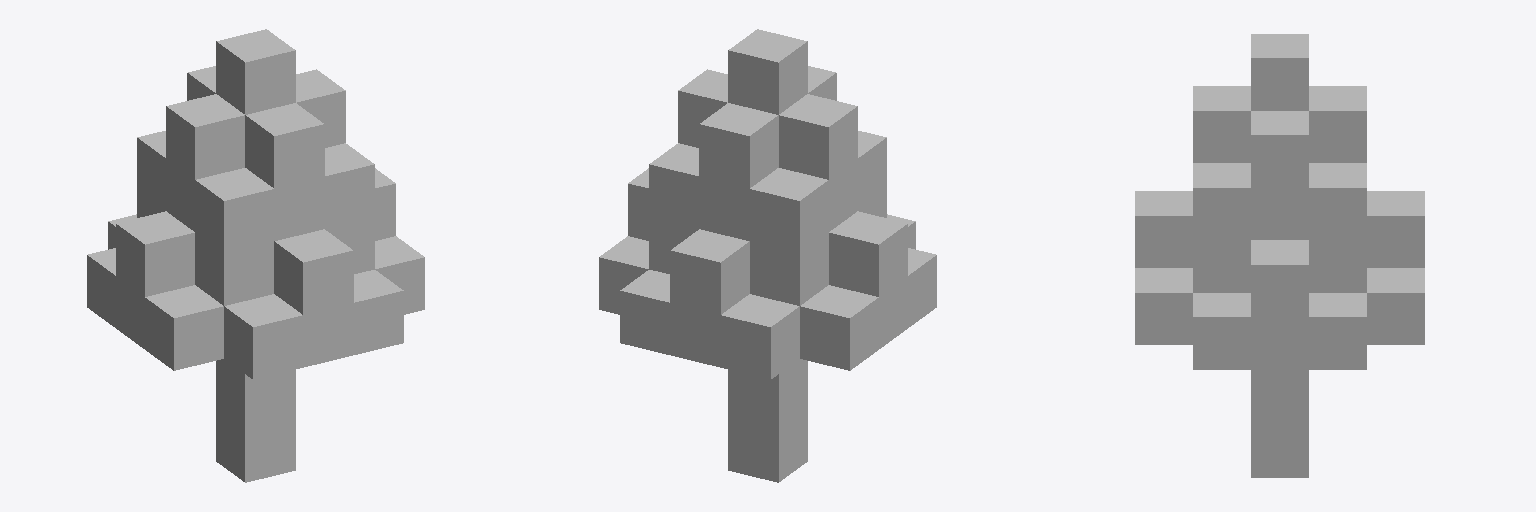
File: tree.obj
3 renders of one model, left to right at view 1: azimuth 30°, elevation 25°; view 2: azimuth 150°, elevation 25°; view 3: azimuth 270°, elevation 25°, orthographic.
Parts seen in each view (by area): view 1: object 1; view 2: object 1; view 3: object 1.
Boxes of the visible parts, box(x1,y1,x2,y2) form: object 1: box(87, 29, 424, 482); object 1: box(599, 29, 936, 482); object 1: box(1135, 34, 1424, 477).
Bounding box in the file's own units: 0.5 × 0.8 × 0.5.